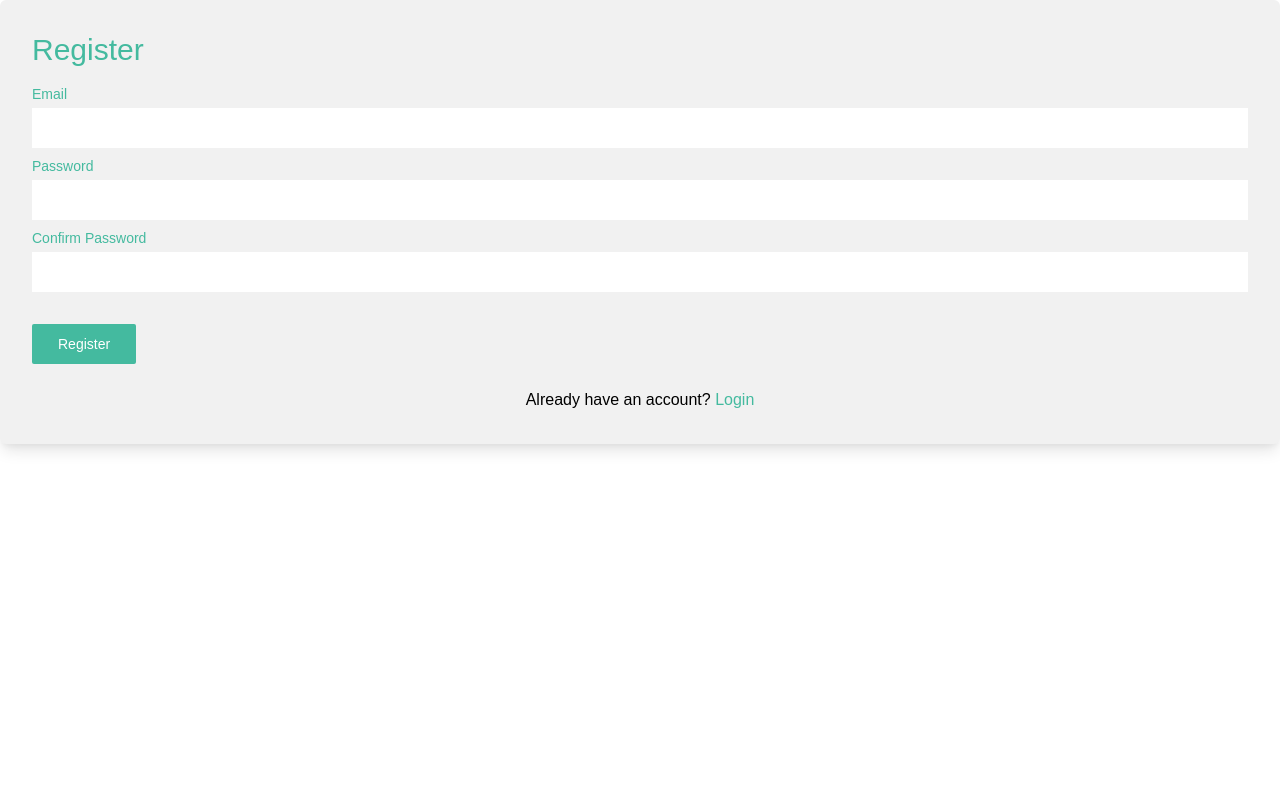
Test: Register › should show field are required errors clicking Register
The image size is (1280, 800).
Click the button "Register".
click(84, 344)  # box [32, 324, 136, 364]
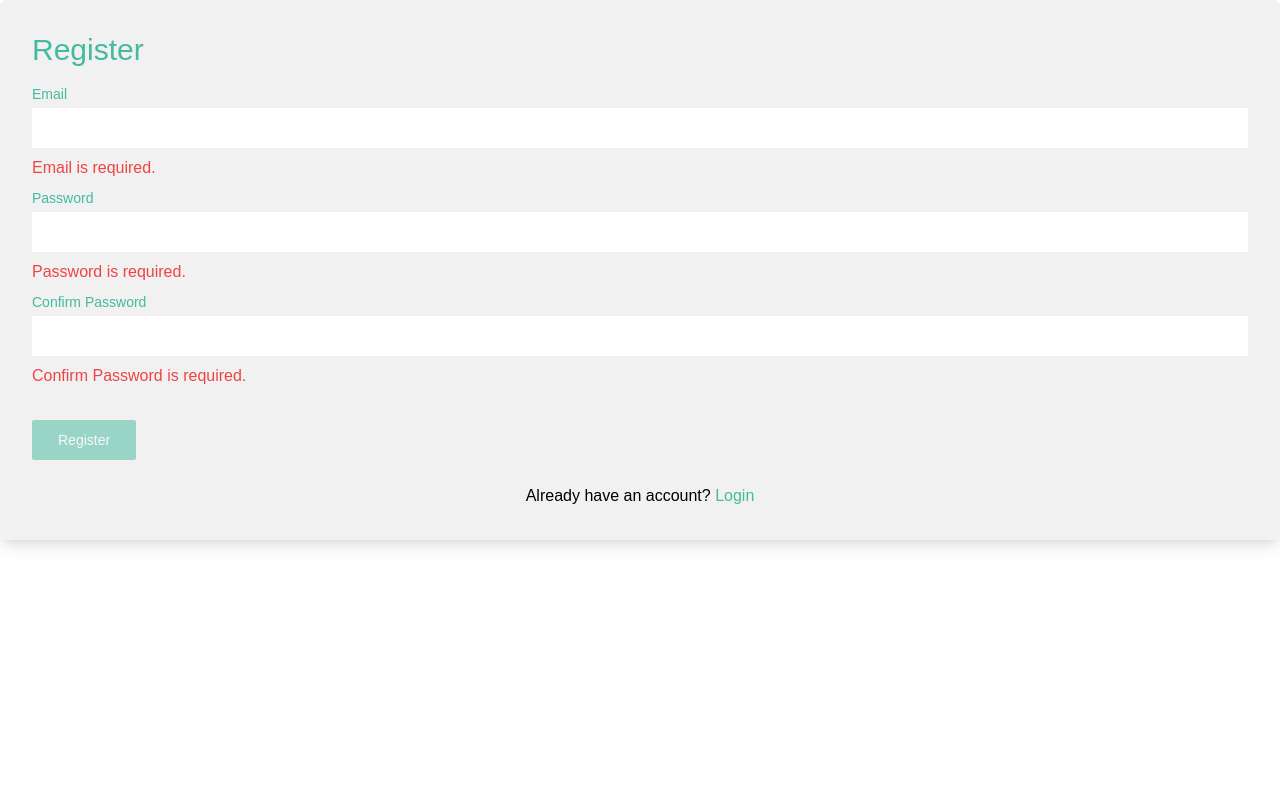
Now the text "Email is required." is shown, box [32, 159, 156, 176]
Now the text "Password is required." is shown, box [32, 263, 186, 280]
Now the text "Confirm Password is required." is shown, box [32, 367, 246, 384]
